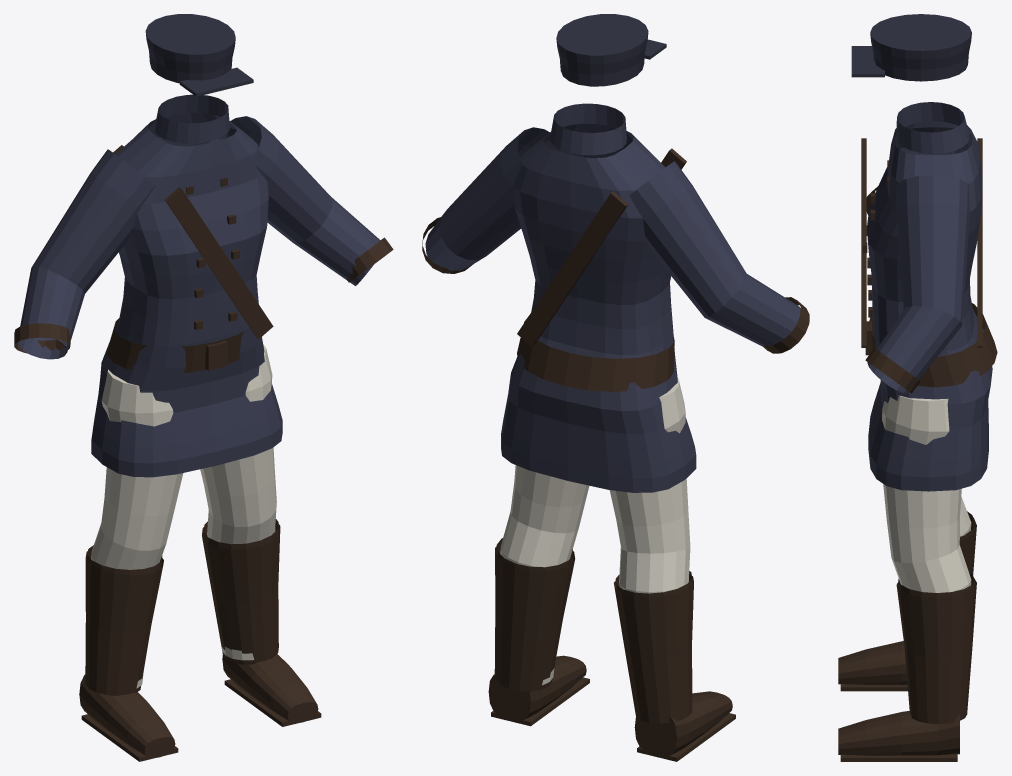
File: tenue_police_militaire_lod0.glb
3 renders of one model, left to right at view 1: azimuth 30°, elevation 25°; view 2: azimuth 150°, elevation 25°; view 3: azimuth 270°, elevation 25°, orthographic. The views are drawn at different scales.
Parts seen in each view (by area): view 1: spine_02, pelvis, calf_r, calf_l, upperarm_r, thigh_r, head, upperarm_l, thigh_l, lowerarm_r, foot_r, foot_l (+2 smaller); view 2: spine_02, pelvis, calf_r, calf_l, upperarm_r, upperarm_l, head, thigh_r, lowerarm_r, thigh_l, foot_r, foot_l (+2 smaller); view 3: spine_02, calf_l, pelvis, upperarm_l, thigh_l, head, foot_l, lowerarm_l, foot_r, neck_01, calf_r.
Part boxes in pixels (box(x1,y1,x2,y2)): spine_02: box(98, 112, 273, 412); pelvis: box(91, 318, 282, 477); calf_r: box(85, 523, 165, 695); calf_l: box(202, 507, 280, 664); upperarm_r: box(31, 149, 155, 293); thigh_r: box(101, 369, 183, 550); head: box(145, 14, 253, 96); upperarm_l: box(209, 116, 332, 242); thigh_l: box(200, 345, 276, 526); lowerarm_r: box(14, 266, 84, 359); foot_r: box(79, 674, 178, 761); foot_l: box(222, 654, 321, 726); spine_02: box(508, 123, 686, 433); pelvis: box(501, 316, 696, 492); calf_r: box(614, 547, 693, 723); calf_l: box(494, 511, 578, 691); upperarm_r: box(629, 161, 747, 317); upperarm_l: box(439, 127, 570, 259); head: box(556, 14, 666, 86); thigh_r: box(609, 377, 690, 553); lowerarm_r: box(705, 274, 809, 353); thigh_l: box(510, 465, 589, 533); foot_r: box(634, 691, 735, 761); foot_l: box(488, 655, 589, 726); spine_02: box(861, 121, 992, 429); calf_l: box(891, 545, 976, 724); pelvis: box(865, 303, 997, 491); upperarm_l: box(896, 175, 969, 324); thigh_l: box(882, 395, 961, 563); head: box(851, 14, 971, 81); foot_l: box(838, 711, 959, 761); lowerarm_l: box(865, 306, 962, 393); foot_r: box(838, 641, 907, 691); neck_01: box(896, 102, 969, 153); calf_r: box(959, 497, 976, 575).
Bounding box in the file's own units: 0.979 × 1.69 × 0.356.
